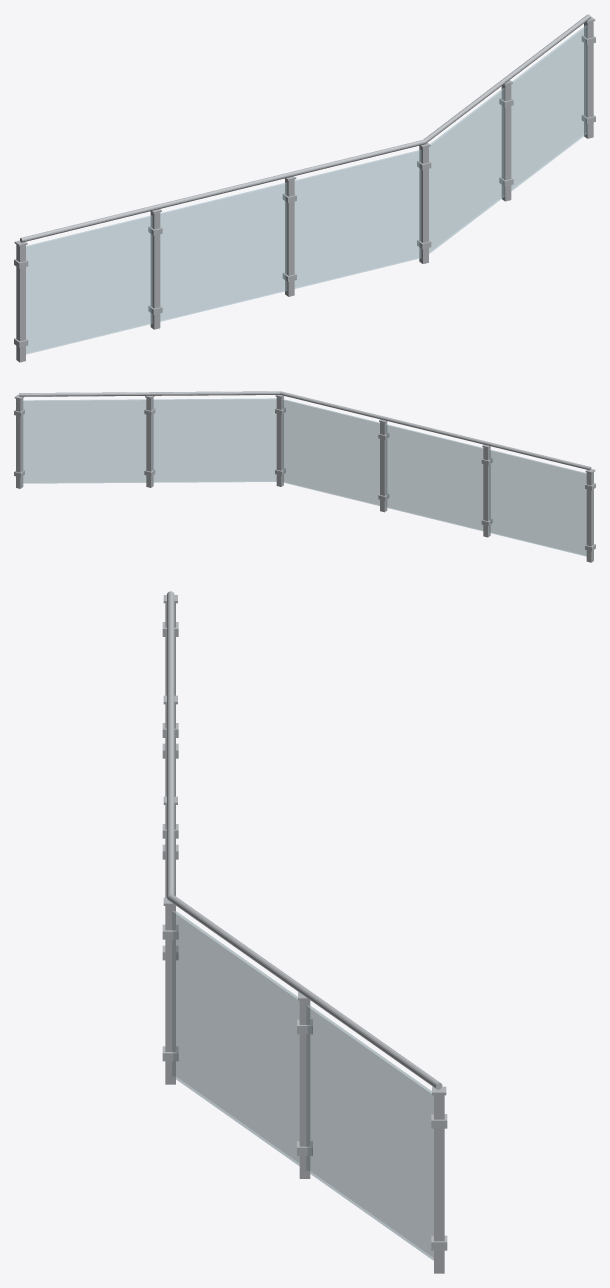
The picture shows the model from 3 angles, top to bottom: view 1: azimuth 30°, elevation 25°; view 2: azimuth 150°, elevation 25°; view 3: azimuth 270°, elevation 25°; orthographic projection. The views are drawn at different scales.
Parts seen in each view (by area): view 1: presentation (×11), wall.glass_railing; view 2: presentation (×11), wall.glass_railing; view 3: presentation (×5), wall.glass_railing.
Part boxes in pixels (<box>): presentation (×11): <box>16,19,593,362</box>; wall.glass_railing: <box>14,14,595,347</box>; presentation (×11): <box>16,395,593,562</box>; wall.glass_railing: <box>14,391,595,551</box>; presentation (×5): <box>165,906,444,1273</box>; wall.glass_railing: <box>162,591,447,1250</box>.
Bounding box in the file's own units: 6.59 × 1.59 × 1.16.
